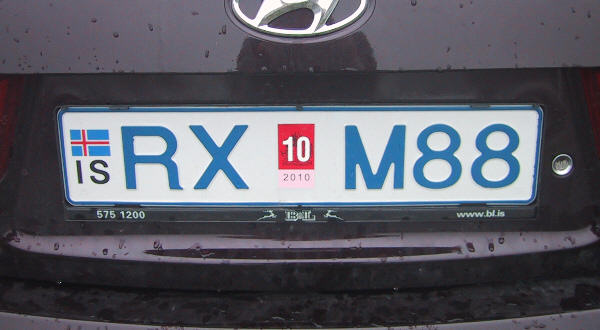license_plate: (57, 106, 544, 208)
